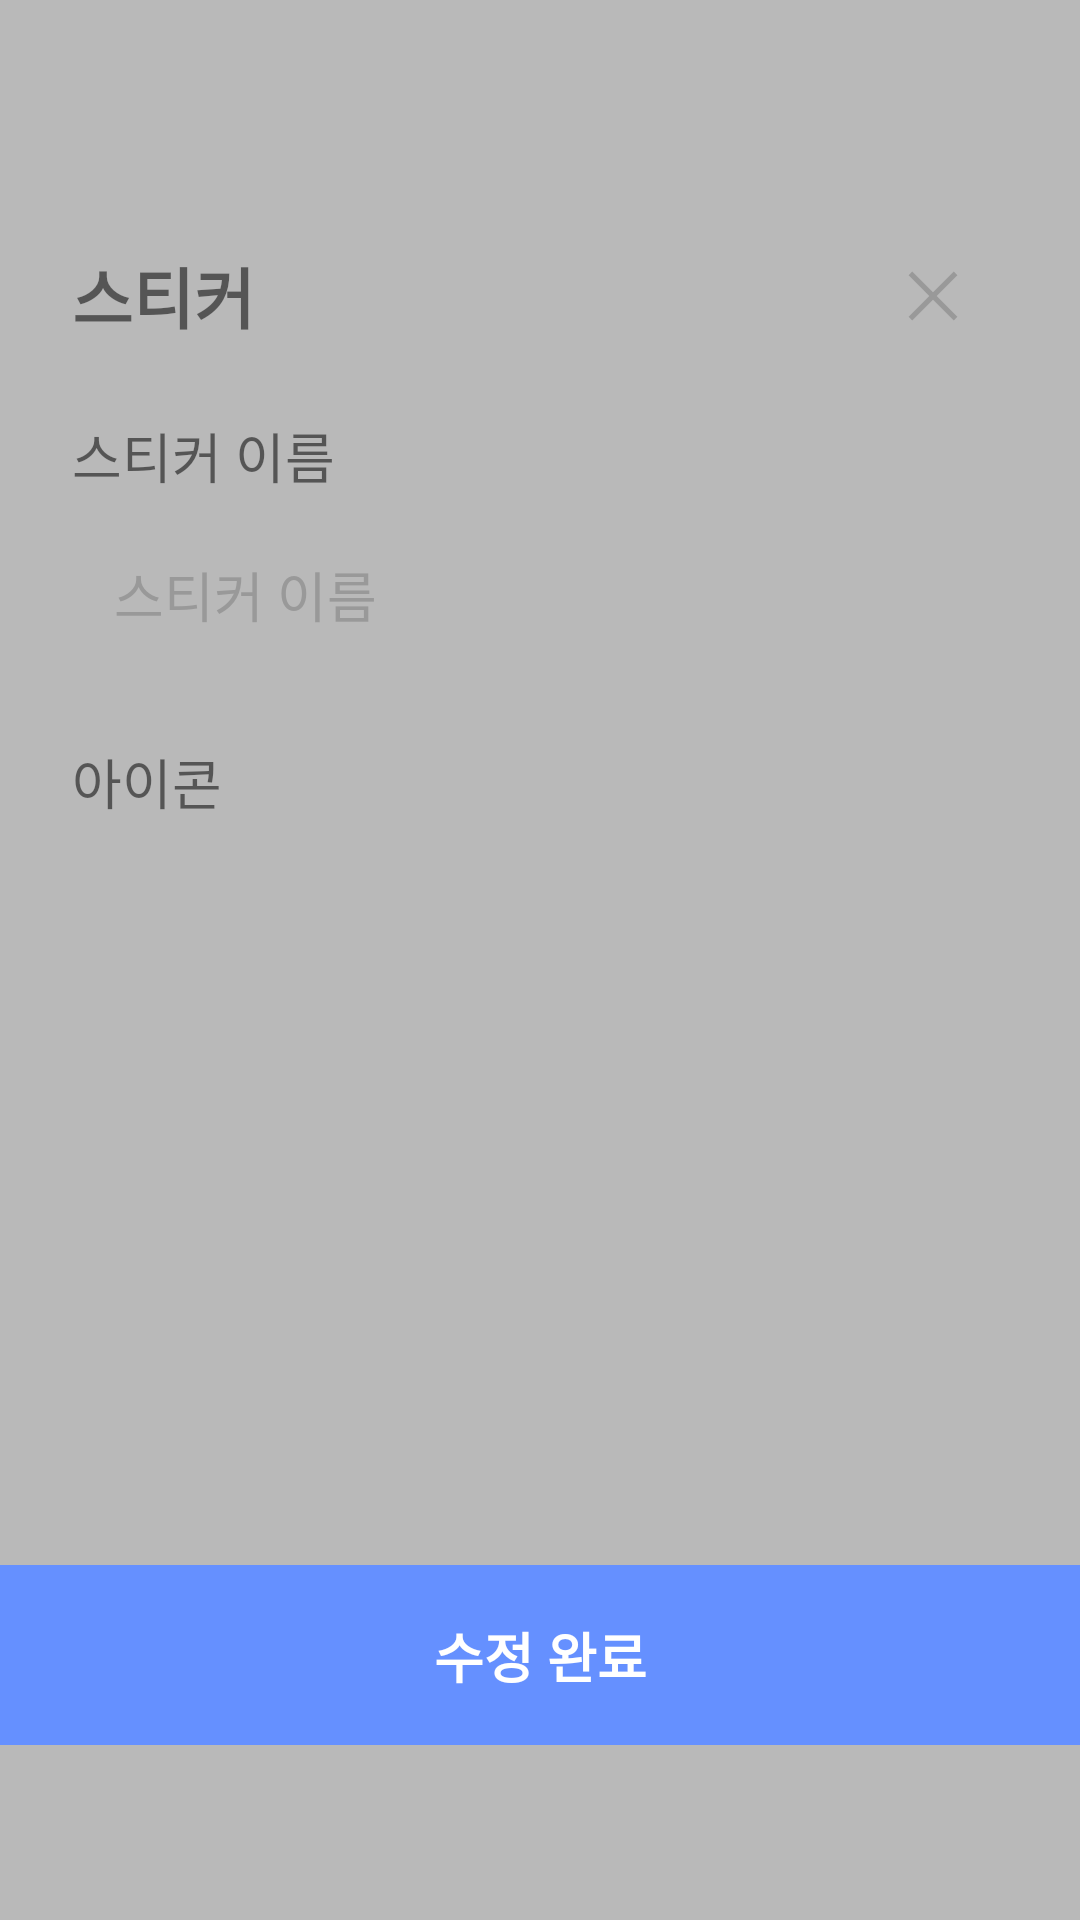

Icons on this 1080 × 1920 Android screen, each with the point to tap as (x=x, y=y):
close: (x=933, y=296)
